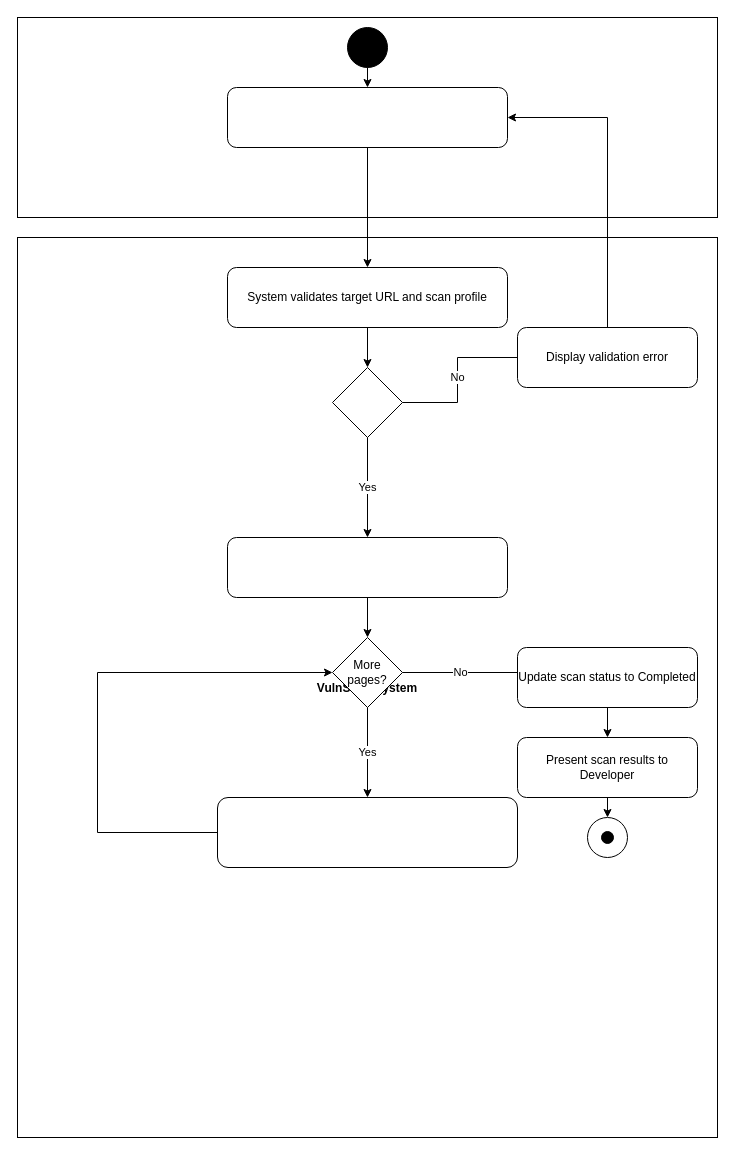
Image size: 735x1155. Some labels were removed from this diagram. Each missing label, with the box of its shape:
Developer provides a target URL and selects a scan profile: (226, 86, 508, 148)
Run enabled detection modules and record Findings (severity, risk, evidence): (216, 796, 518, 868)
Valid?: (332, 366, 402, 438)
Web crawler discovers pages (stored as DiscoveredPage): (226, 536, 508, 598)
